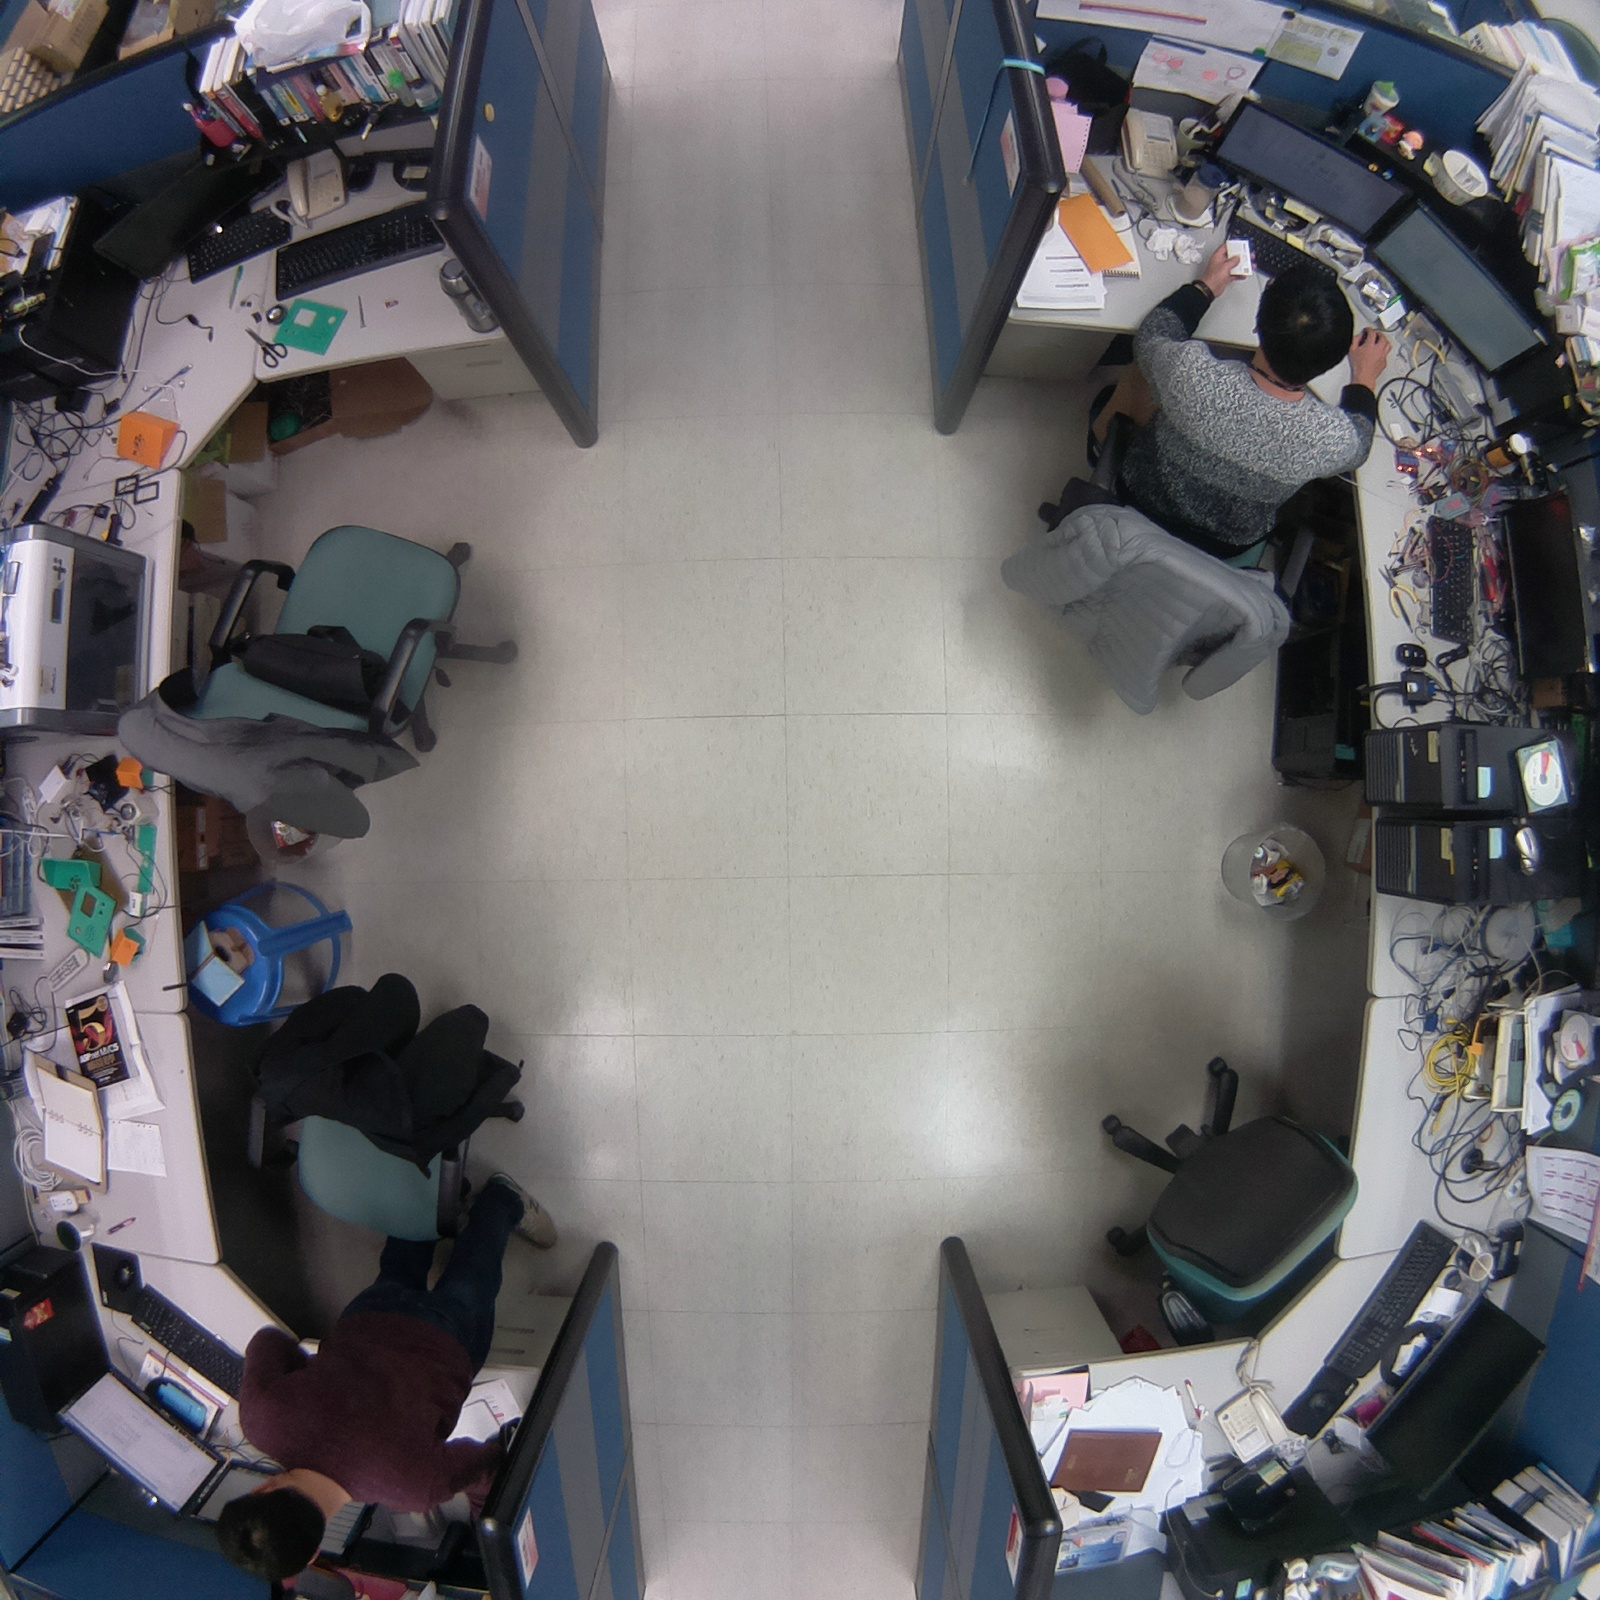chair: (88, 496, 532, 865), (1081, 1040, 1376, 1365), (224, 963, 547, 1250)
head: (1251, 261, 1355, 387), (215, 1482, 329, 1587)
sitting: (981, 243, 1399, 742)
standing: (205, 1140, 576, 1594)
